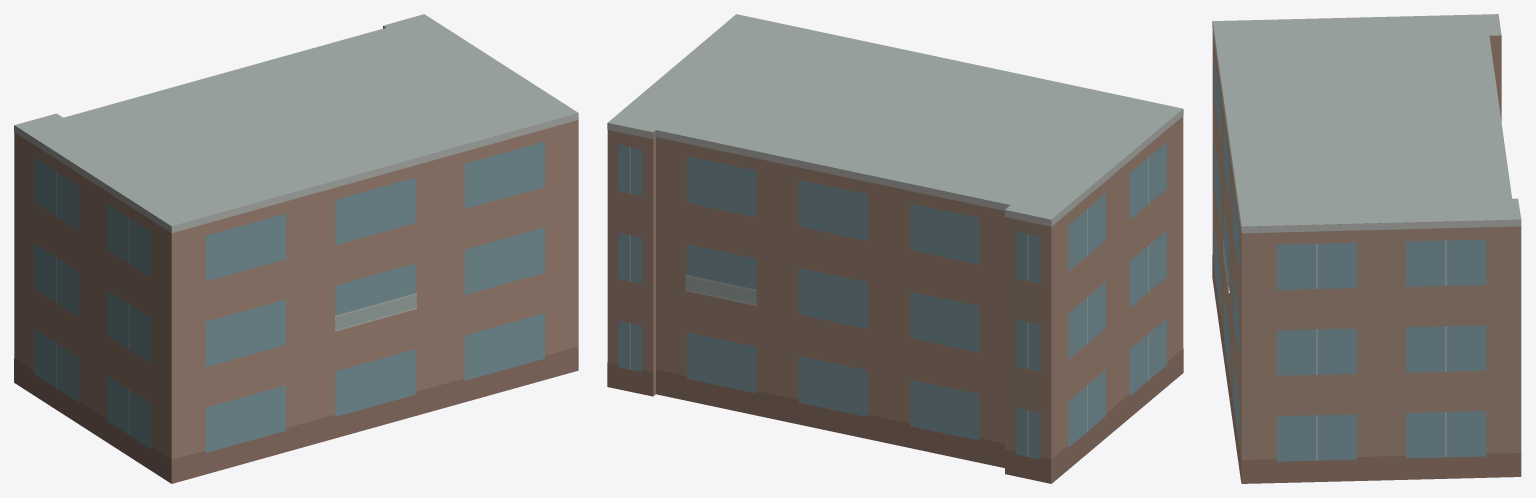
The model's file is survey-upis-32698012.glb.
3 renders of one model, left to right at view 1: azimuth 30°, elevation 25°; view 2: azimuth 150°, elevation 25°; view 3: azimuth 270°, elevation 25°, orthographic. The views are drawn at different scales.
Parts seen in each view (by area): view 1: survey-upis-32698012.tmp; view 2: survey-upis-32698012.tmp; view 3: survey-upis-32698012.tmp.
Boxes of the visible parts, x1,y1,x2,y2 form: survey-upis-32698012.tmp: [14, 14, 578, 483]; survey-upis-32698012.tmp: [607, 14, 1183, 483]; survey-upis-32698012.tmp: [1212, 14, 1521, 483].
Size of the model in its own units: 16.22 by 9.15 by 9.96.
